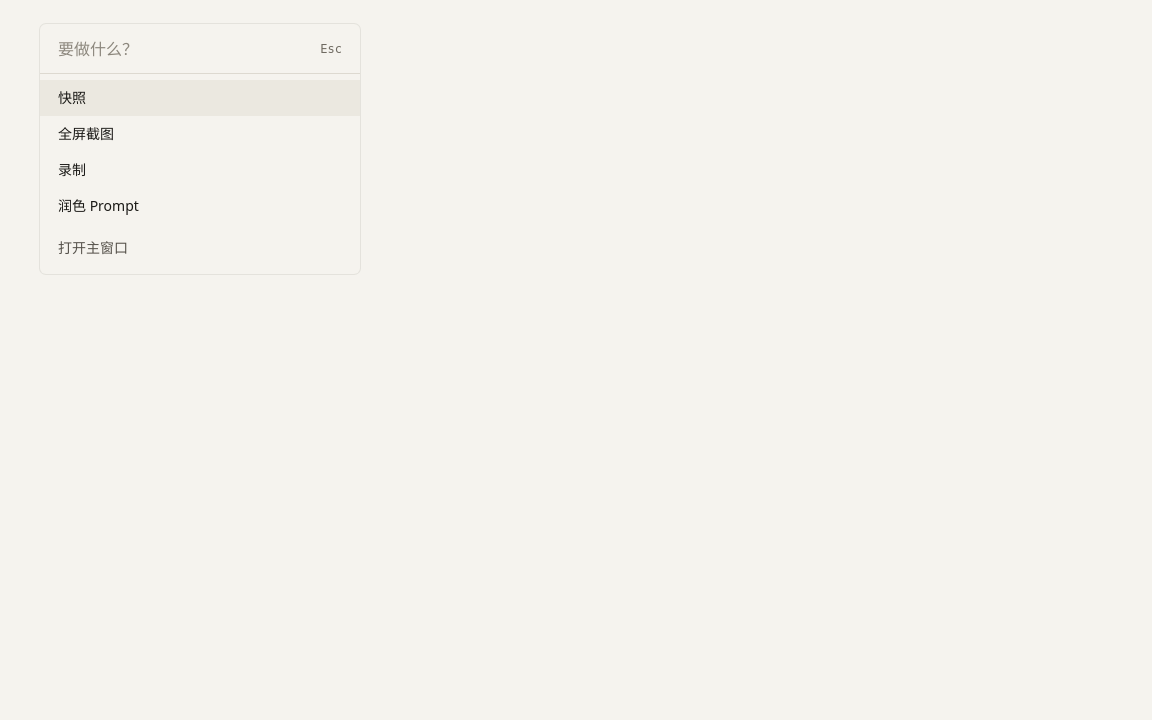
Test case: 输入框：润色 › 没配模型时不发请求，直接说去哪里填
Type "帮我把历史页按日期分组" into the field named "命令，或要润色的文字" at (183, 48), box [58, 38, 308, 58]
Then press Enter
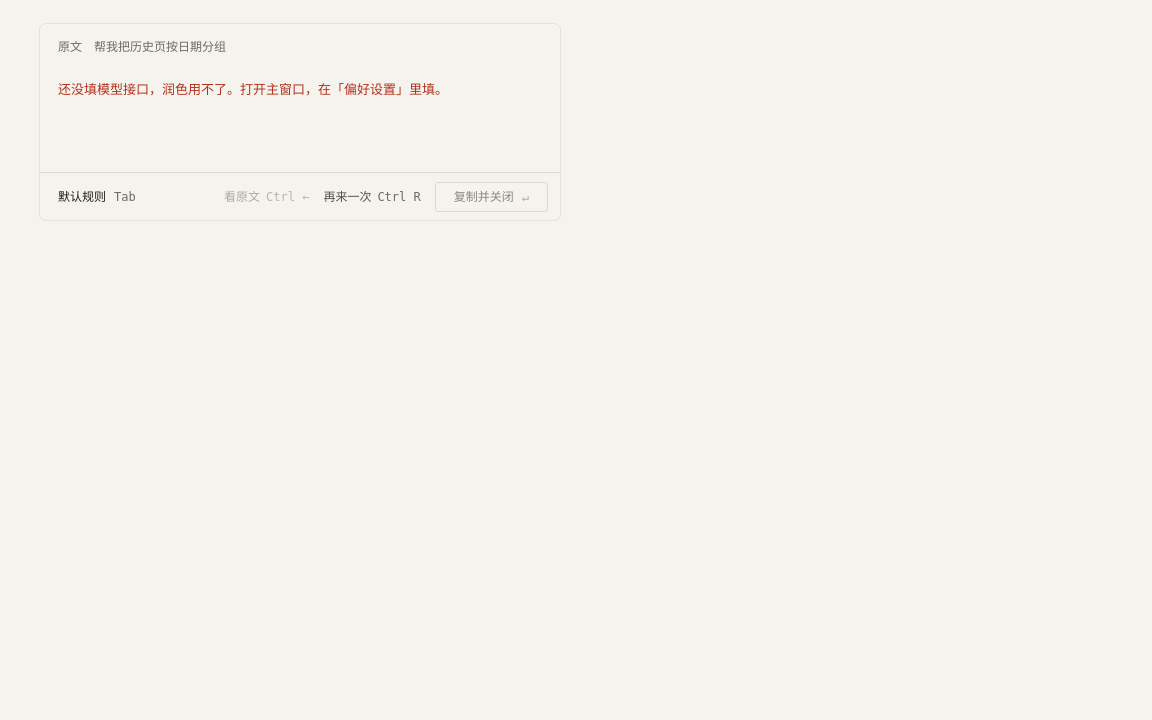
Expected: the text "还没填模型接口，润色用不了。打开主窗口，在「偏好设置」里填。" is shown, [58, 80, 442, 98]
